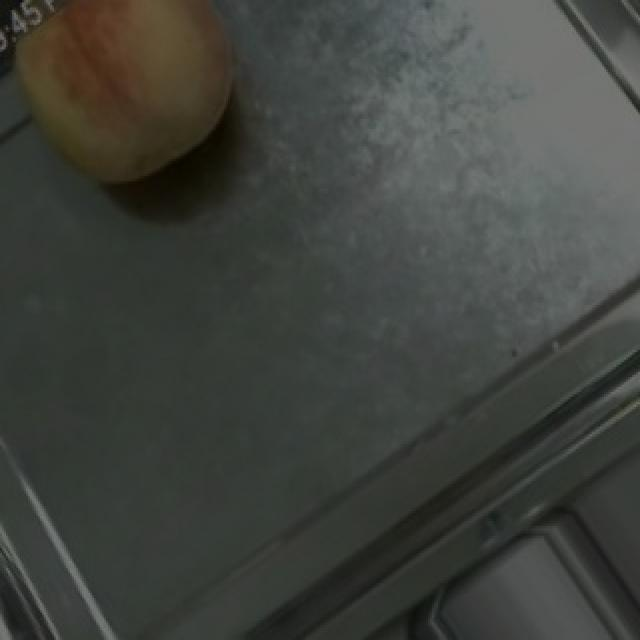Fruit: (0, 0, 272, 218)
